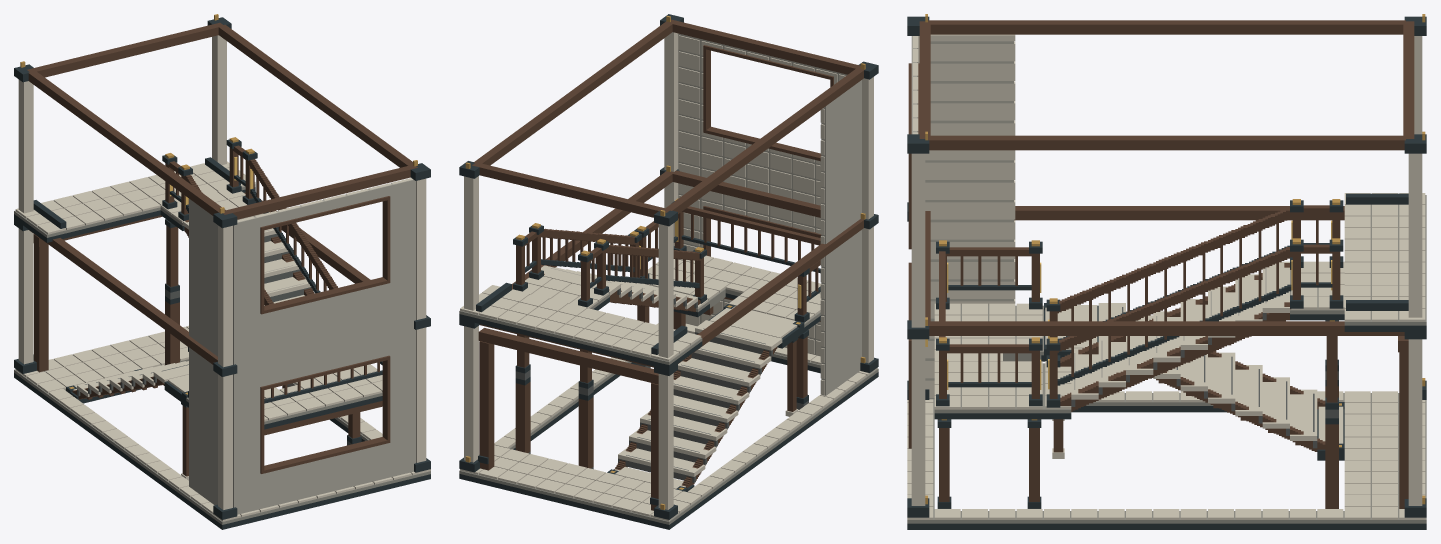
3 renders of one model, left to right at view 1: azimuth 30°, elevation 25°; view 2: azimuth 150°, elevation 25°; view 3: azimuth 270°, elevation 25°, orthographic. The views are drawn at different scales.
Visible parts, largest first — view 1: 固定梯井服务翼结构, 共享双跑回行踏步, 共享楼梯半转平台, 共享双跑上行踏步, 回行承柱 · 拼装辅件; view 2: 固定梯井服务翼结构, 共享双跑上行踏步, 共享双跑回行踏步, 共享楼梯半转平台, 回行承柱 · 拼装辅件 (×2); view 3: 固定梯井服务翼结构, 共享双跑回行踏步, 共享楼梯半转平台, 共享双跑上行踏步, 回行承柱 · 拼装辅件.
Part boxes in pixels (x1,y1,x2,y2): 固定梯井服务翼结构: [14, 14, 430, 529]; 共享双跑回行踏步: [160, 137, 337, 305]; 共享楼梯半转平台: [186, 347, 382, 445]; 共享双跑上行踏步: [66, 361, 188, 480]; 回行承柱 · 拼装辅件: [165, 296, 179, 365]; 固定梯井服务翼结构: [459, 14, 878, 529]; 共享双跑上行踏步: [607, 304, 804, 491]; 共享双跑回行踏步: [513, 223, 708, 395]; 共享楼梯半转平台: [634, 198, 821, 409]; 回行承柱 · 拼装辅件 (×2): [515, 377, 593, 469]; 固定梯井服务翼结构: [907, 14, 1426, 529]; 共享双跑回行踏步: [1044, 199, 1344, 419]; 共享楼梯半转平台: [934, 240, 1043, 508]; 共享双跑上行踏步: [1044, 303, 1344, 460]; 回行承柱 · 拼装辅件: [1325, 418, 1338, 508].
Size of the model in its own units: 4.4 by 6.34 by 7.6.
9 materials, 9 textured.
